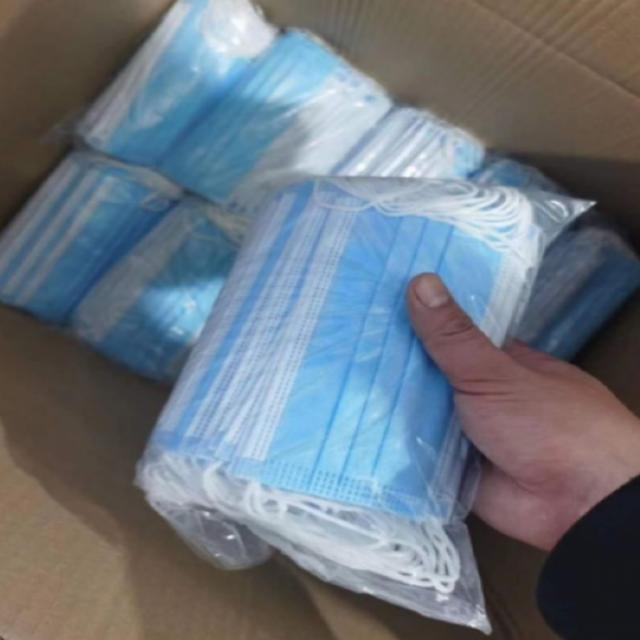face mask: (156, 166, 518, 574)
